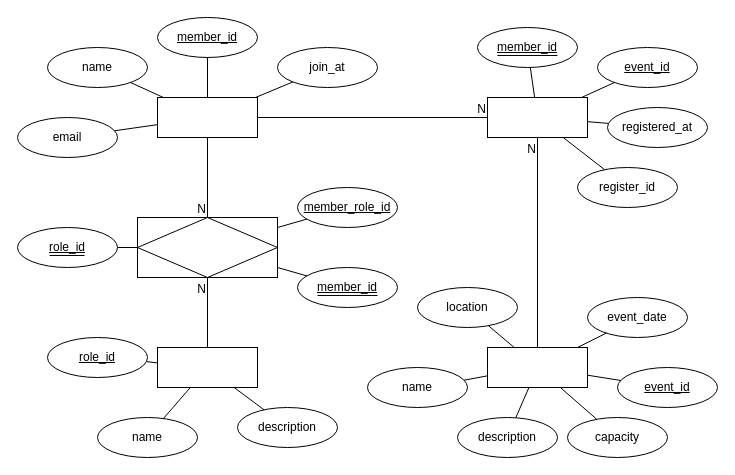
Image size: 735x475. Some labels were removed from this diagram. The shapes that lost their labels are listed below. From the top down, each one's box as (x1, y1, x2, y2) in pixels, then its label:
(156, 96, 258, 138): Members
(486, 96, 588, 138): Registrations
(136, 216, 278, 278): MemberRole
(156, 346, 258, 388): Roles
(486, 346, 588, 388): Events
